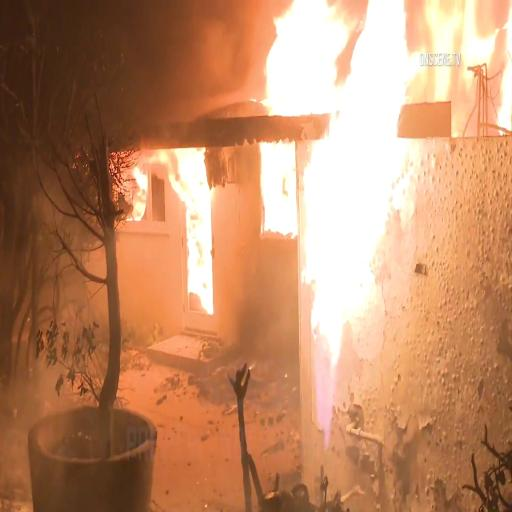fire: (184, 172, 215, 300), (120, 153, 150, 237)
